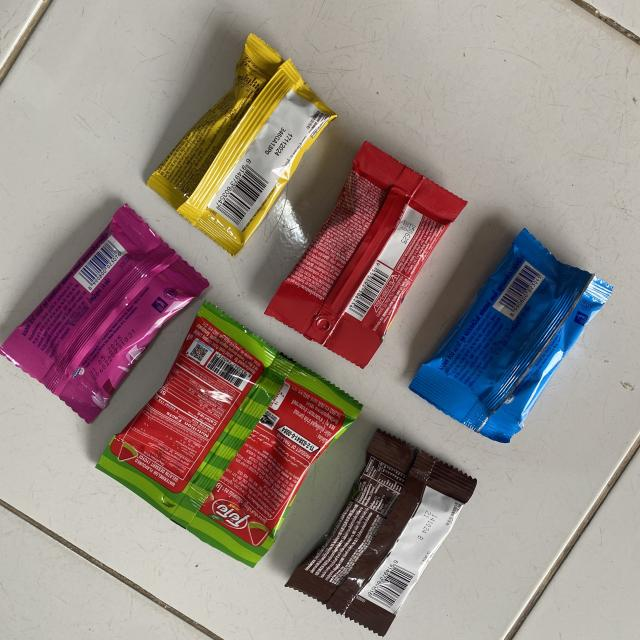plastik: (97, 302, 362, 568), (266, 142, 466, 368), (0, 206, 208, 423), (409, 230, 613, 442), (147, 35, 335, 256), (286, 431, 476, 635)
